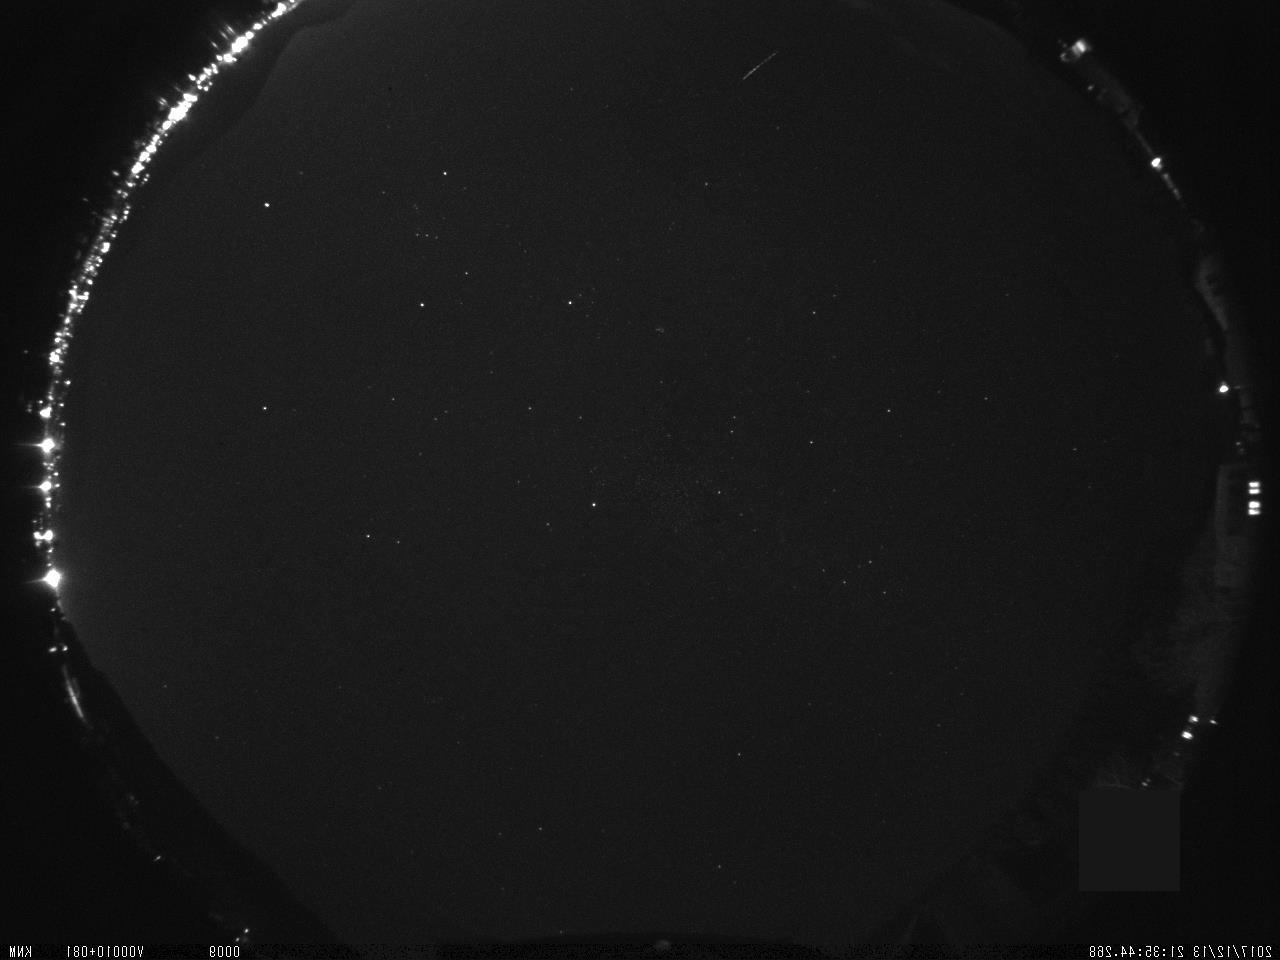meteor: (728, 43, 784, 90)
